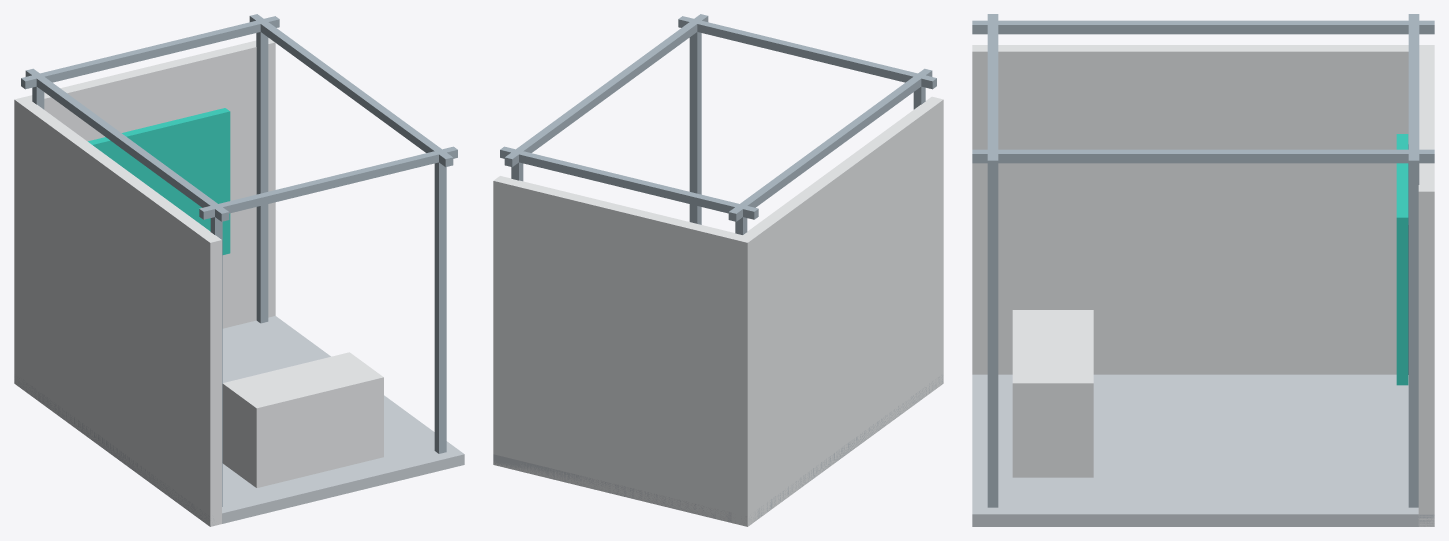
3 renders of one model, left to right at view 1: azimuth 30°, elevation 25°; view 2: azimuth 150°, elevation 25°; view 3: azimuth 270°, elevation 25°, orthographic. The views are drawn at different scales.
Parts seen in each view (by area): view 1: Exhibition Booth Concept; view 2: Exhibition Booth Concept; view 3: Exhibition Booth Concept.
Boxes of the visible parts, bbox=[...] form: Exhibition Booth Concept: bbox=[14, 14, 464, 526]; Exhibition Booth Concept: bbox=[493, 14, 943, 526]; Exhibition Booth Concept: bbox=[972, 14, 1434, 526].
Bounding box in the file's own units: 3 × 3.49 × 4.
